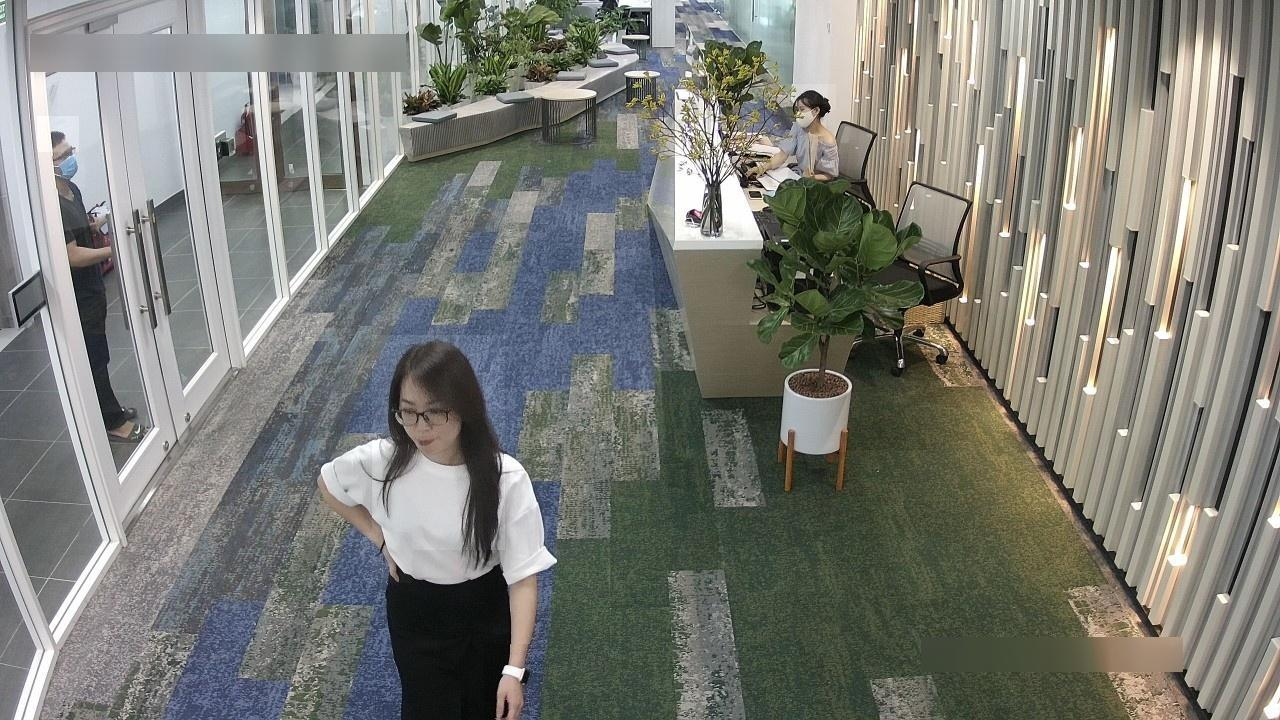mask: (787, 105, 829, 140), (53, 157, 86, 190)
no_apron: (484, 645, 556, 720), (361, 532, 413, 584), (741, 152, 773, 188)
no_gloves: (373, 335, 506, 550), (37, 117, 79, 153), (789, 84, 837, 111)
no_hairnet: (394, 423, 459, 462)
